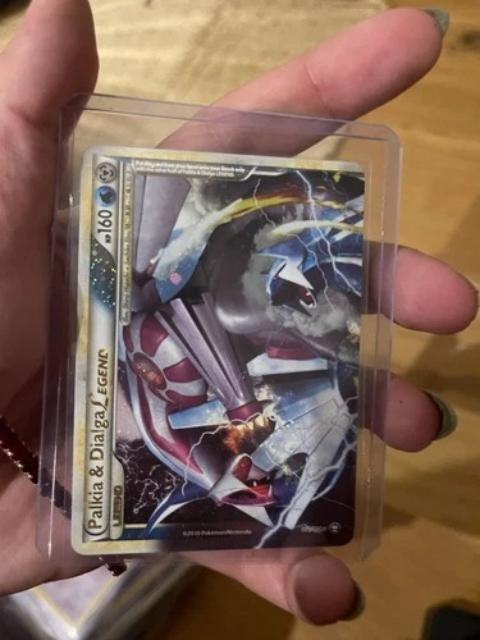Card: (67, 141, 371, 560)
Name: (83, 336, 114, 531)
